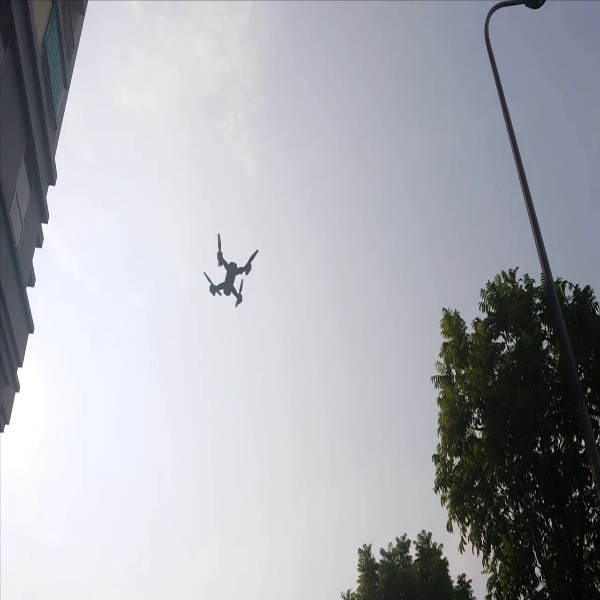drone: (196, 231, 261, 310)
